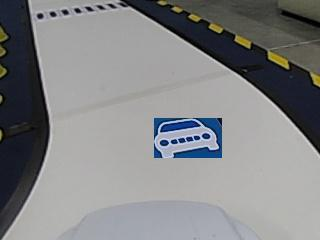crosswalk: (31, 2, 132, 19)
